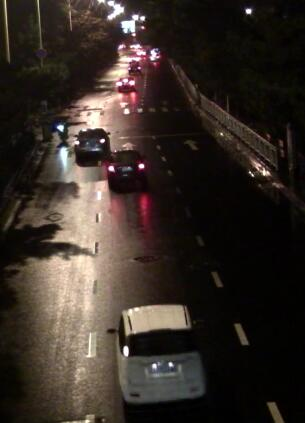car: (107, 301, 207, 410), (104, 150, 147, 192), (71, 126, 113, 157), (114, 75, 136, 92), (126, 59, 139, 74)
